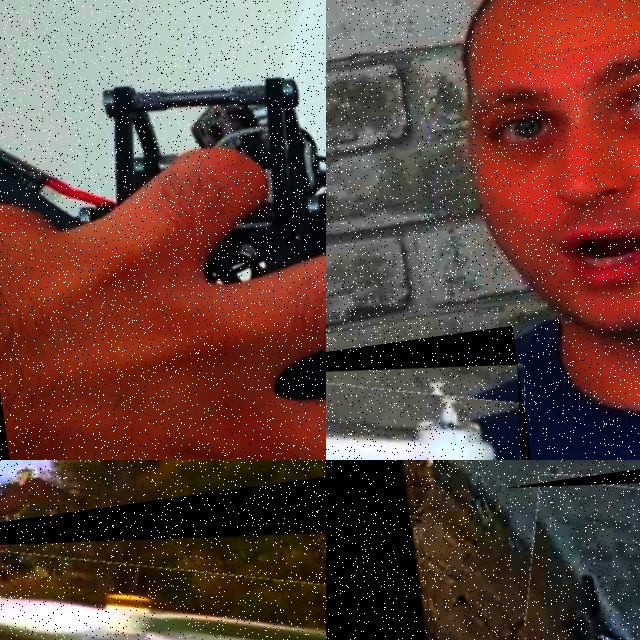drone: (0, 0, 326, 460), (0, 463, 326, 640), (326, 326, 541, 460), (505, 460, 640, 640)
